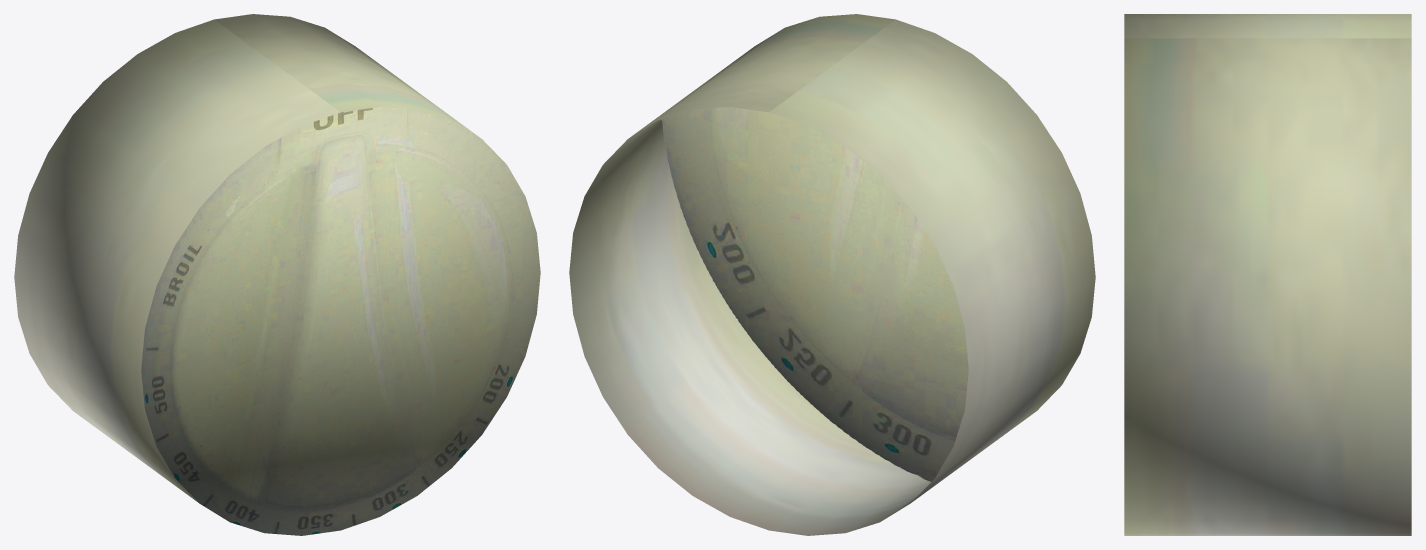
File: ovenKnob.fbx
The picture shows the model from 3 angles, left to right: view 1: azimuth 30°, elevation 25°; view 2: azimuth 150°, elevation 25°; view 3: azimuth 270°, elevation 25°; orthographic projection. The views are drawn at different scales.
Parts seen in each view (by area): view 1: knob2; view 2: knob2; view 3: knob2.
Part boxes in pixels (x1,y1,x2,y2): knob2: (14,14,540,535); knob2: (569,14,1095,535); knob2: (1124,14,1411,535).
Size of the model in its own units: 42.81 by 42.81 by 23.55.
Materials: 1 (1 with a texture image).
